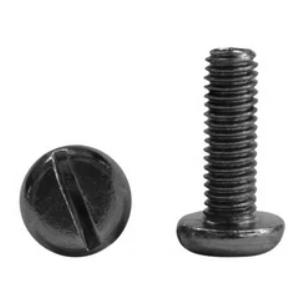screw: (17, 147, 129, 258)
